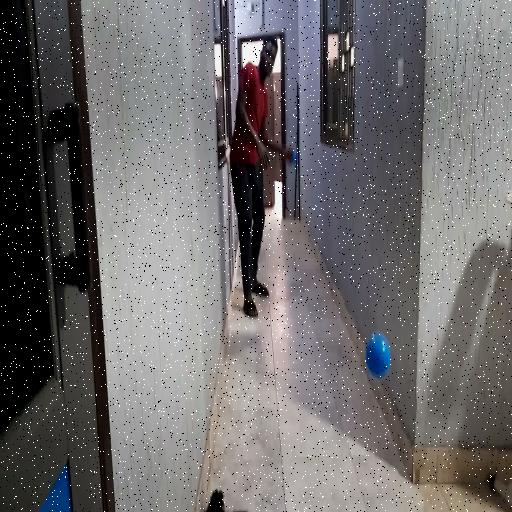plastic-ball: (365, 328, 390, 378)
